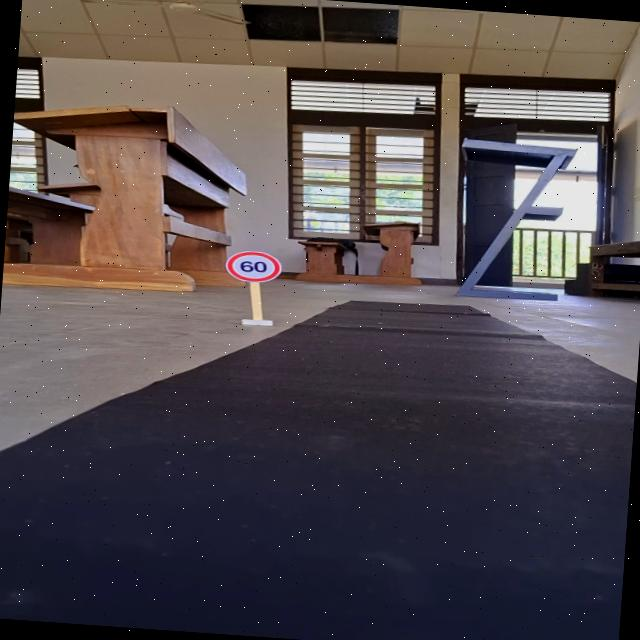Speed60: (224, 247, 284, 285)
